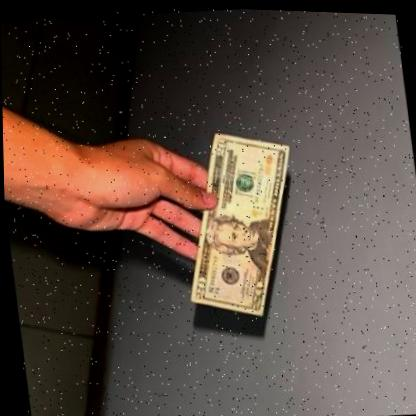twenty-front: (166, 120, 305, 323)
